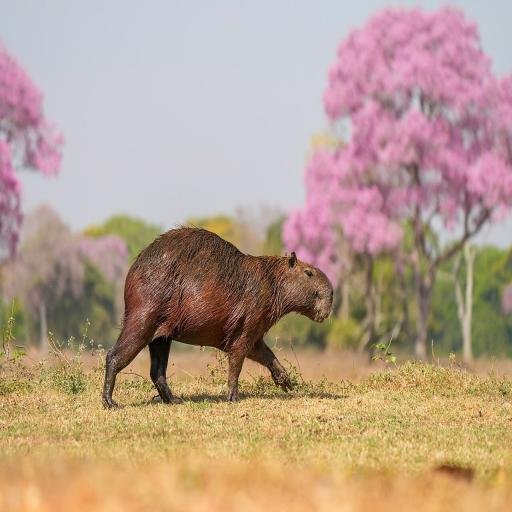capybara: (103, 228, 333, 408)
